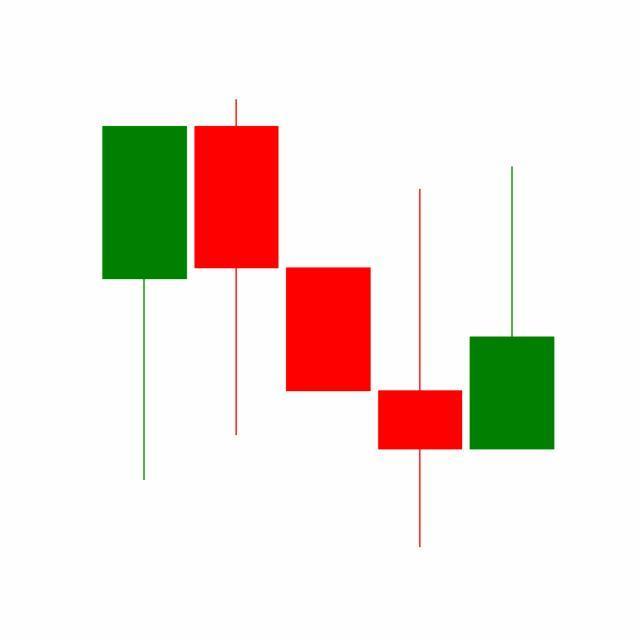Spinning Top: (374, 185, 468, 553)
